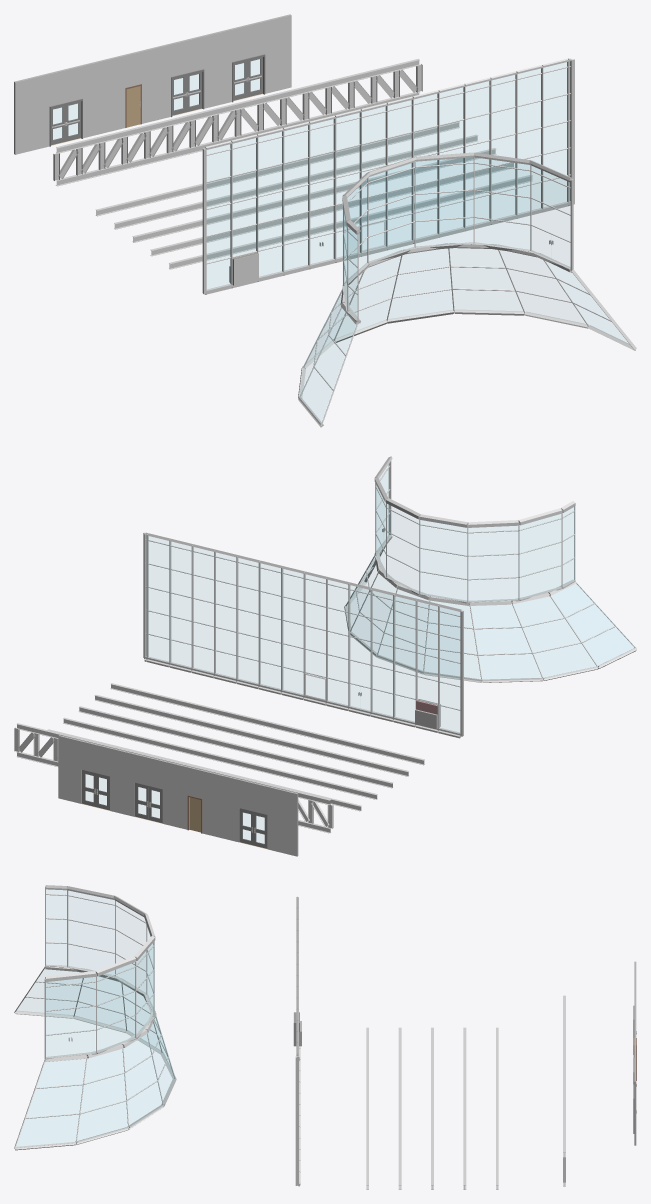
3 renders of one model, top to bottom at view 1: azimuth 30°, elevation 25°; view 2: azimuth 150°, elevation 25°; view 3: azimuth 270°, elevation 25°, orthographic. The views are drawn at different scales.
Parts seen in each view (by area): view 1: 1Ci5AoYTz1Qu$H1Q1RKhsY, 1Ci5AoYTz1Qu$H1Q1RKgW3, 1Ci5AoYTz1Qu$H1Q1RKgcK, 1Ci5AoYTz1Qu$H1Q1RKgcI, 1Ci5AoYTz1Qu$H1Q1RKgcg, 1Ci5AoYTz1Qu$H1Q1RKgcM, 1Ci5AoYTz1Qu$H1Q1RKgce, 1Ci5AoYTz1Qu$H1Q1RKgW1, 1Ci5AoYTz1Qu$H1Q1RKk9d, 1Ci5AoYTz1Qu$H1Q1RKfIN, 01x3NLu5f5$fku4q2LsQ7x, 2xH7EIIEbCzRb2Ef1g8hgS; view 2: 1Ci5AoYTz1Qu$H1Q1RKhsY, 1Ci5AoYTz1Qu$H1Q1RKgcK, 1Ci5AoYTz1Qu$H1Q1RKgcg, 1Ci5AoYTz1Qu$H1Q1RKgcM, 1Ci5AoYTz1Qu$H1Q1RKgce, 1Ci5AoYTz1Qu$H1Q1RKgW3, 1Ci5AoYTz1Qu$H1Q1RKgcI, 01x3NLu5f5$fku4q2LsQ7x, 1Ci5AoYTz1Qu$H1Q1RKfIN, 1Ci5AoYTz1Qu$H1Q1RKk9d; view 3: 1Ci5AoYTz1Qu$H1Q1RKgcK, 1Ci5AoYTz1Qu$H1Q1RKgce, 1Ci5AoYTz1Qu$H1Q1RKhsY, 1Ci5AoYTz1Qu$H1Q1RKgW3, 1Ci5AoYTz1Qu$H1Q1RKgcI, 1Ci5AoYTz1Qu$H1Q1RKgcM, 1Ci5AoYTz1Qu$H1Q1RKgcg.
Boxes of the visible parts, x1,y1,x2,y2 form: 1Ci5AoYTz1Qu$H1Q1RKhsY: (14, 14, 291, 154); 1Ci5AoYTz1Qu$H1Q1RKgW3: (56, 59, 419, 153); 1Ci5AoYTz1Qu$H1Q1RKgcK: (114, 134, 477, 229); 1Ci5AoYTz1Qu$H1Q1RKgcI: (96, 121, 459, 216); 1Ci5AoYTz1Qu$H1Q1RKgcg: (169, 175, 532, 269); 1Ci5AoYTz1Qu$H1Q1RKgcM: (132, 148, 496, 242); 1Ci5AoYTz1Qu$H1Q1RKgce: (150, 162, 514, 256); 1Ci5AoYTz1Qu$H1Q1RKgW1: (56, 92, 419, 186); 1Ci5AoYTz1Qu$H1Q1RKk9d: (232, 54, 265, 102); 1Ci5AoYTz1Qu$H1Q1RKfIN: (49, 98, 82, 146); 01x3NLu5f5$fku4q2LsQ7x: (171, 69, 204, 117); 2xH7EIIEbCzRb2Ef1g8hgS: (125, 84, 141, 127); 1Ci5AoYTz1Qu$H1Q1RKhsY: (58, 735, 298, 856); 1Ci5AoYTz1Qu$H1Q1RKgcK: (63, 717, 377, 799); 1Ci5AoYTz1Qu$H1Q1RKgcg: (110, 683, 424, 765); 1Ci5AoYTz1Qu$H1Q1RKgcM: (79, 706, 393, 788); 1Ci5AoYTz1Qu$H1Q1RKgce: (94, 694, 408, 776); 1Ci5AoYTz1Qu$H1Q1RKgW3: (16, 723, 330, 805); 1Ci5AoYTz1Qu$H1Q1RKgcI: (47, 729, 361, 811); 01x3NLu5f5$fku4q2LsQ7x: (134, 782, 162, 823); 1Ci5AoYTz1Qu$H1Q1RKfIN: (239, 808, 267, 848); 1Ci5AoYTz1Qu$H1Q1RKk9d: (82, 770, 109, 810); 1Ci5AoYTz1Qu$H1Q1RKgcK: (463, 1027, 466, 1189); 1Ci5AoYTz1Qu$H1Q1RKgce: (398, 1027, 401, 1189); 1Ci5AoYTz1Qu$H1Q1RKhsY: (634, 961, 636, 1145); 1Ci5AoYTz1Qu$H1Q1RKgW3: (563, 995, 565, 1157); 1Ci5AoYTz1Qu$H1Q1RKgcI: (496, 1027, 498, 1189); 1Ci5AoYTz1Qu$H1Q1RKgcM: (431, 1027, 433, 1189); 1Ci5AoYTz1Qu$H1Q1RKgcg: (366, 1027, 368, 1189).
Size of the model in its own units: 23.88 by 9.54 by 35.16.
